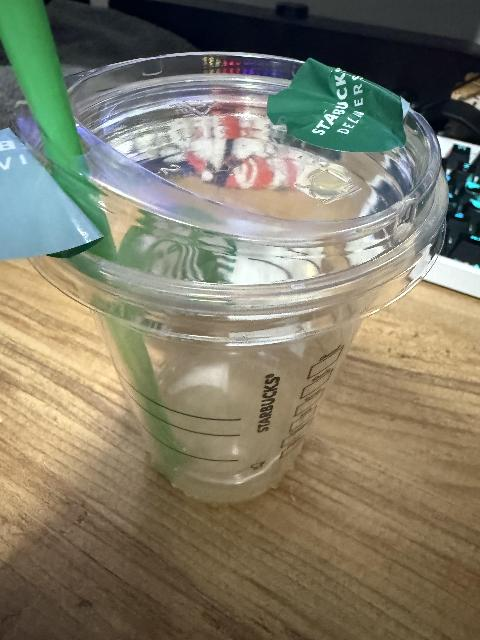Plastik: (16, 2, 480, 495)
